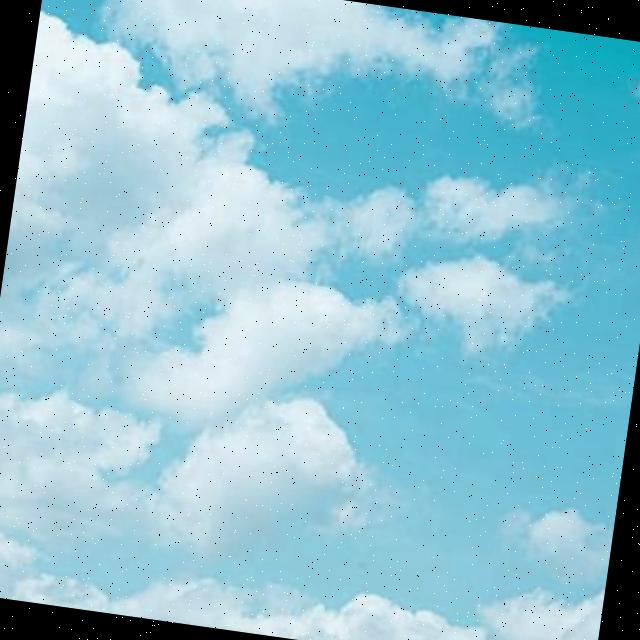Cu: (1, 1, 640, 620)
